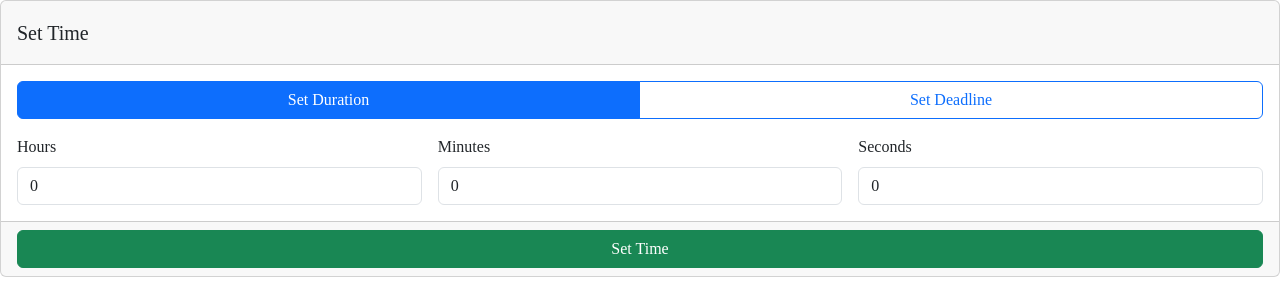
Test: TimeSetup Bootstrap Integration › Bootstrap Form Components › renders deadline form with Bootstrap structure
# Switch to deadline mode
What coordinates should you click on to do the following:
click the button "Set Deadline"
I would click on:
 (951, 100)
Its box is [639,81,1263,119].
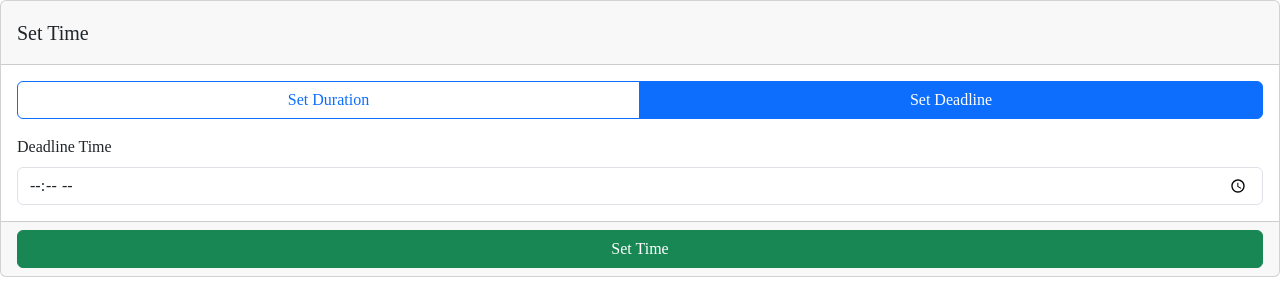
Result: the element with test id "deadline-input-group" is shown at [17,135,1263,205]
